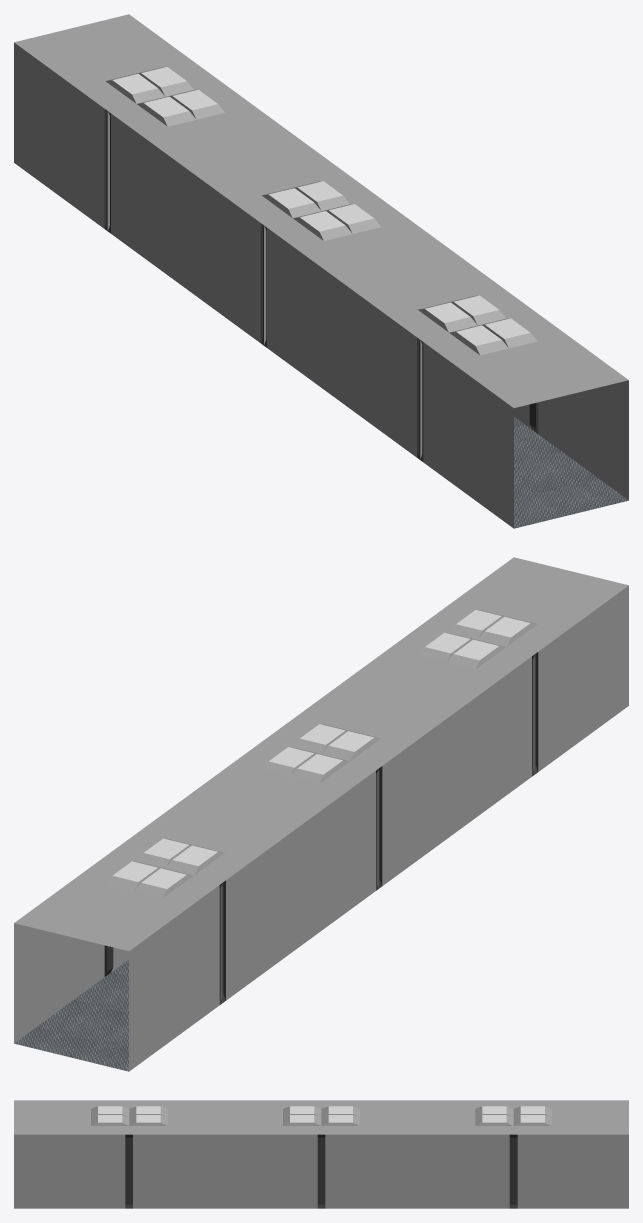
Rendered from lab.fbx.
3 views of the same model, one above another, from view 1: azimuth 30°, elevation 25°; view 2: azimuth 150°, elevation 25°; view 3: azimuth 270°, elevation 25° (orthographic). The views are drawn at different scales.
Parts seen in each view (by area): view 1: Cube; view 2: Cube; view 3: Cube.
Boxes of the visible parts, x1,y1,x2,y2 form: Cube: (14,14,628,528); Cube: (14,557,628,1071); Cube: (14,1100,628,1208).
Bounding box in the file's own units: 298 × 309 × 2238.
4 materials, 1 textured.
